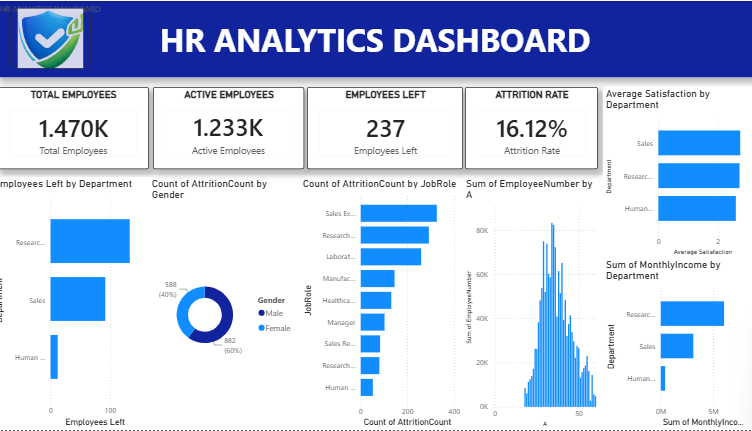

Layout of this report page (visuals, bound fields, positions):
{"tool":"powerbi","page":{"name":"Page 1","canvas":[1280,720],"ordinal":0},"visuals":[{"type":"textbox","box":[10.1,0,1269.9,127.7],"z":0},{"type":"image","box":[31.9,11.8,136.1,102.5],"z":1},{"type":"cardVisual","title":"TOTAL EMPLOYEES","fields":{"Data":["HR-Employee-Attrition.Total Employees"]},"box":[10.1,144.5,255.3,137.7],"z":3},{"type":"donutChart","fields":{"Category":["HR-Employee-Attrition.Gender"],"Y":["CountNonNull(HR-Employee-Attrition.AttritionCount)"]},"box":[265.4,295.6,253.6,425],"z":9},{"type":"barChart","fields":{"Category":["HR-Employee-Attrition.JobRole"],"Y":["CountNonNull(HR-Employee-Attrition.AttritionCount)"]},"box":[519.1,295.6,273.8,425],"z":10},{"type":"columnChart","fields":{"Category":["HR-Employee-Attrition.A"],"Y":["Sum(HR-Employee-Attrition.EmployeeNumber)"]},"box":[792.9,295.6,235.2,425],"z":11},{"type":"barChart","fields":{"Category":["HR-Employee-Attrition.Department"],"Y":["Sum(HR-Employee-Attrition.MonthlyIncome)"]},"box":[1028,431.7,252,288.9],"z":12},{"type":"cardVisual","title":"ACTIVE EMPLOYEES","fields":{"Data":["HR-Employee-Attrition.Active Employees"]},"box":[272.1,144.5,253.6,137.7],"z":13},{"type":"clusteredBarChart","fields":{"Category":["HR-Employee-Attrition.Department"],"Y":["HR-Employee-Attrition.Employees Left"]},"box":[0,296,265,424],"z":14},{"type":"cardVisual","title":"EMPLOYEES LEFT","fields":{"Data":["HR-Employee-Attrition.Employees Left"]},"box":[530.8,144.5,262,137.7],"z":15},{"type":"cardVisual","title":"ATTRITION RATE","fields":{"Data":["HR-Employee-Attrition.Attrition Rate"]},"box":[796.2,144.5,223.4,137.7],"z":16},{"type":"barChart","fields":{"Category":["HR-Employee-Attrition.Department"],"Y":["HR-Employee-Attrition.Average Satisfaction"]},"box":[1028,144.5,252,287.2],"z":17}]}

Visuals, with their boxes in screenshot pixels (x1, y1, x2, y2), scaled from the page's 1280x720 canvas onto the 752x431 screenshot:
textbox: box=[6, 0, 751, 76]
image: box=[19, 7, 99, 68]
"TOTAL EMPLOYEES" cardVisual: box=[6, 86, 156, 169]
donutChart - HR-Employee-Attrition.Gender x CountNonNull(HR-Employee-Attrition.AttritionCount): box=[156, 177, 305, 430]
barChart - HR-Employee-Attrition.JobRole x CountNonNull(HR-Employee-Attrition.AttritionCount): box=[305, 177, 466, 430]
columnChart - HR-Employee-Attrition.A x Sum(HR-Employee-Attrition.EmployeeNumber): box=[466, 177, 604, 430]
barChart - HR-Employee-Attrition.Department x Sum(HR-Employee-Attrition.MonthlyIncome): box=[604, 258, 751, 430]
"ACTIVE EMPLOYEES" cardVisual: box=[160, 86, 309, 169]
clusteredBarChart - HR-Employee-Attrition.Department x HR-Employee-Attrition.Employees Left: box=[0, 177, 156, 430]
"EMPLOYEES LEFT" cardVisual: box=[312, 86, 466, 169]
"ATTRITION RATE" cardVisual: box=[468, 86, 599, 169]
barChart - HR-Employee-Attrition.Department x HR-Employee-Attrition.Average Satisfaction: box=[604, 86, 751, 258]
